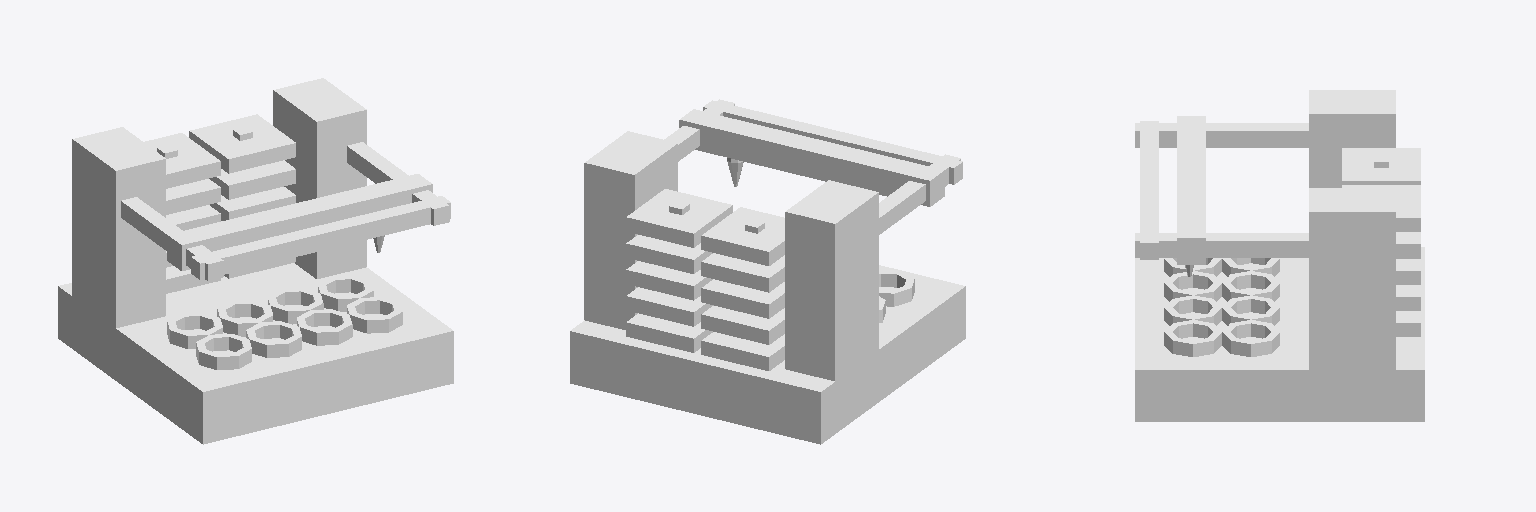
File: rustedresearch.obj
3 renders of one model, left to right at view 1: azimuth 30°, elevation 25°; view 2: azimuth 150°, elevation 25°; view 3: azimuth 270°, elevation 25°, orthographic.
Visible parts, largest first — view 1: g2_group, g0, g1_group, g13_group, g6_group, g14_group, g15_group, g7_group, g8_group, g10_group; view 2: g2_group, g0, g13_group, g6_group, g7_group, g8_group, g9_group, g10_group, g15_group, g16_group, g17_group, g14_group (+1 smaller); view 3: g2_group, g1_group, g0, g6_group, g13_group, g14_group, g15_group, g16_group, g17_group.
Boxes of the visible parts, x1,y1,x2,y2 form: g2_group: [58, 78, 453, 444]; g0: [167, 174, 432, 270]; g1_group: [196, 297, 402, 369]; g13_group: [189, 114, 295, 173]; g6_group: [144, 133, 220, 188]; g14_group: [209, 160, 295, 199]; g15_group: [210, 187, 295, 220]; g7_group: [166, 179, 220, 214]; g8_group: [166, 205, 220, 230]; g10_group: [166, 266, 220, 293]; g2_group: [570, 99, 965, 444]; g0: [679, 109, 944, 206]; g13_group: [626, 189, 732, 247]; g6_group: [701, 207, 784, 265]; g7_group: [701, 253, 784, 292]; g8_group: [701, 279, 784, 318]; g9_group: [701, 306, 784, 344]; g10_group: [701, 332, 784, 370]; g15_group: [626, 261, 712, 300]; g16_group: [626, 287, 713, 326]; g17_group: [626, 313, 712, 352]; g14_group: [626, 235, 712, 273]; g2_group: [1135, 90, 1424, 421]; g1_group: [1164, 258, 1221, 356]; g0: [1177, 116, 1205, 276]; g6_group: [1342, 148, 1420, 184]; g13_group: [1342, 185, 1420, 231]; g14_group: [1396, 232, 1420, 258]; g15_group: [1396, 259, 1420, 284]; g16_group: [1396, 285, 1420, 310]; g17_group: [1396, 311, 1420, 336].
Size of the model in its own units: 1 by 0.8 by 1.